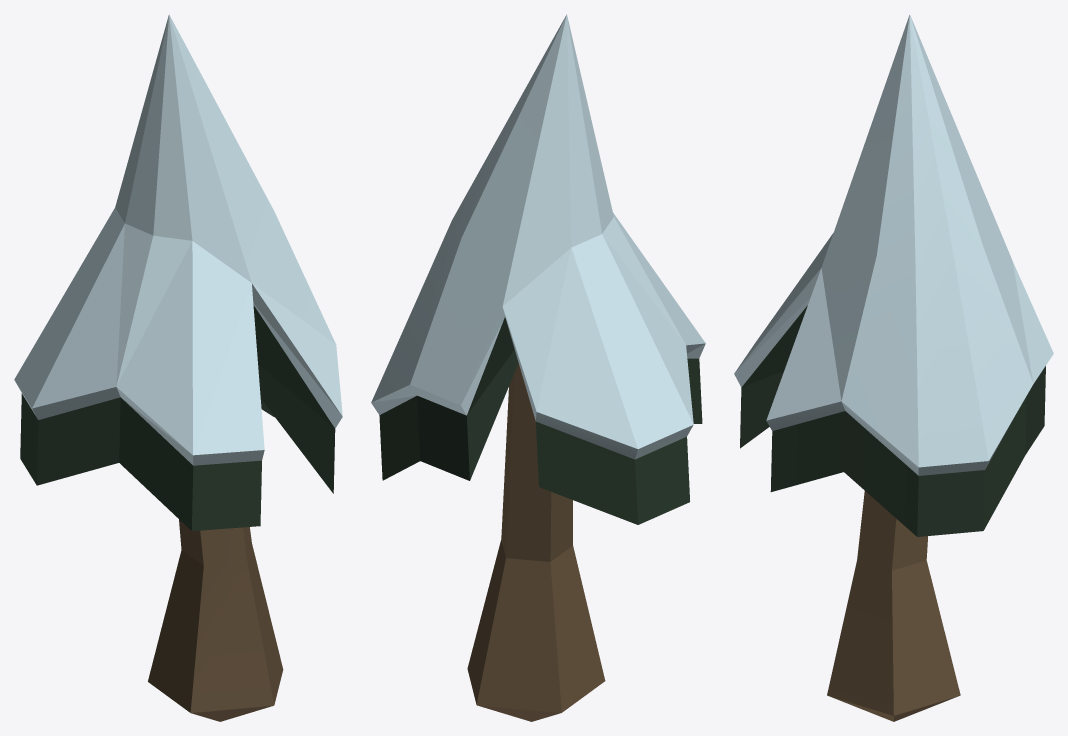
The model's file is Pino04.glb.
The picture shows the model from 3 angles, left to right: view 1: azimuth 30°, elevation 25°; view 2: azimuth 150°, elevation 25°; view 3: azimuth 270°, elevation 25°; orthographic projection. The views are drawn at different scales.
Visible parts, largest first — view 1: SM_Env_Tree_Pine_04_Snow; view 2: SM_Env_Tree_Pine_04_Snow; view 3: SM_Env_Tree_Pine_04_Snow.
Boxes of the visible parts, x1,y1,x2,y2 form: SM_Env_Tree_Pine_04_Snow: (14, 14, 342, 721); SM_Env_Tree_Pine_04_Snow: (371, 14, 705, 721); SM_Env_Tree_Pine_04_Snow: (734, 14, 1053, 721).
Bounding box in the file's own units: 1.14 × 2.61 × 1.1.
Materials: 1 (1 with a texture image).
